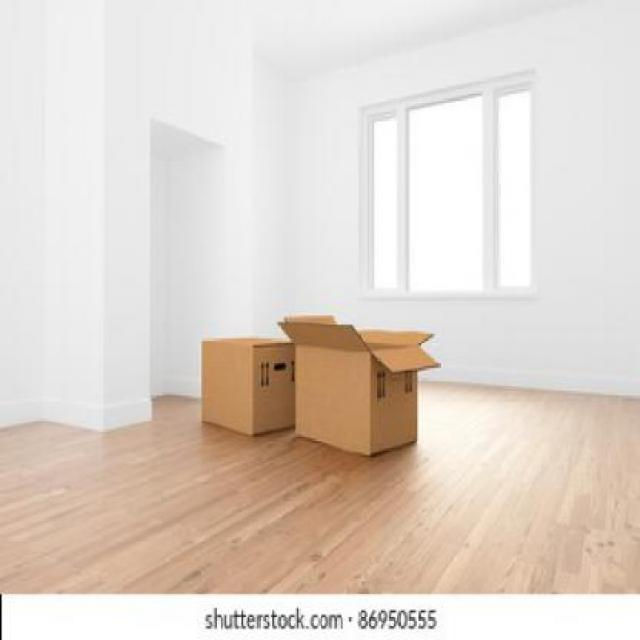box: (285, 315, 427, 456), (201, 335, 299, 439)
